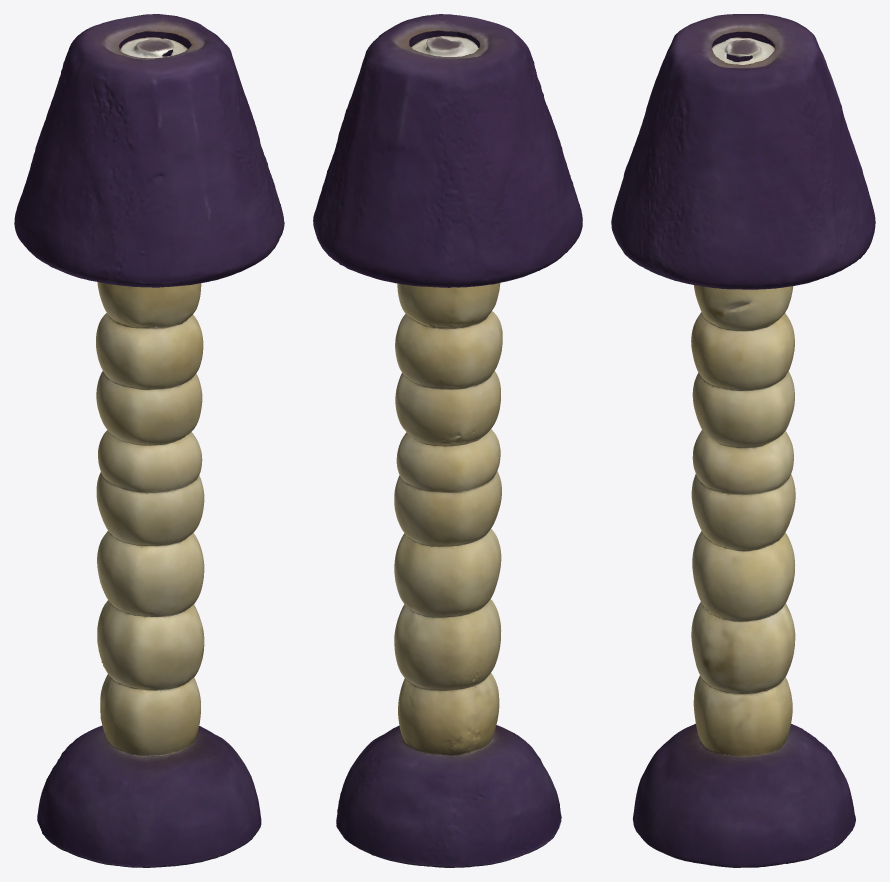
File: 3D_Dollhouse_Lamp.glb
The picture shows the model from 3 angles, left to right: view 1: azimuth 30°, elevation 25°; view 2: azimuth 150°, elevation 25°; view 3: azimuth 270°, elevation 25°; orthographic projection.
Parts seen in each view (by area): view 1: geometry_0; view 2: geometry_0; view 3: geometry_0.
Part boxes in pixels (x1,y1,x2,y2): geometry_0: (14,14,284,867); geometry_0: (313,14,582,867); geometry_0: (611,14,875,867).
Size of the model in its own units: 0.3009 by 1 by 0.3061.
1 material, 1 textured.
